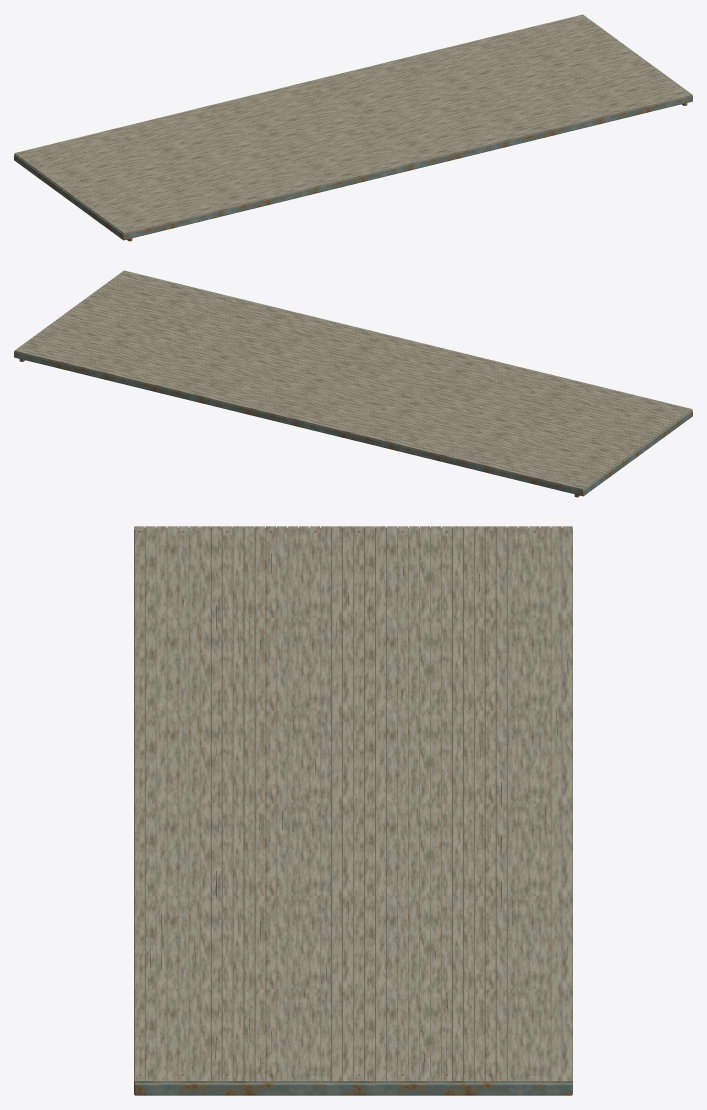
File: Dock_Apron_30x10.glb
The picture shows the model from 3 angles, top to bottom: view 1: azimuth 30°, elevation 25°; view 2: azimuth 150°, elevation 25°; view 3: azimuth 270°, elevation 25°; orthographic projection. The views are drawn at different scales.
Visible parts, largest first — view 1: Dock_Apron_30x10; view 2: Dock_Apron_30x10; view 3: Dock_Apron_30x10.
Part boxes in pixels (x1,y1,x2,y2): Dock_Apron_30x10: [14, 14, 692, 241]; Dock_Apron_30x10: [14, 270, 692, 497]; Dock_Apron_30x10: [134, 526, 572, 1095].
Bounding box in the file's own units: 30 × 0.499 × 10.
4 materials, 3 textured.
